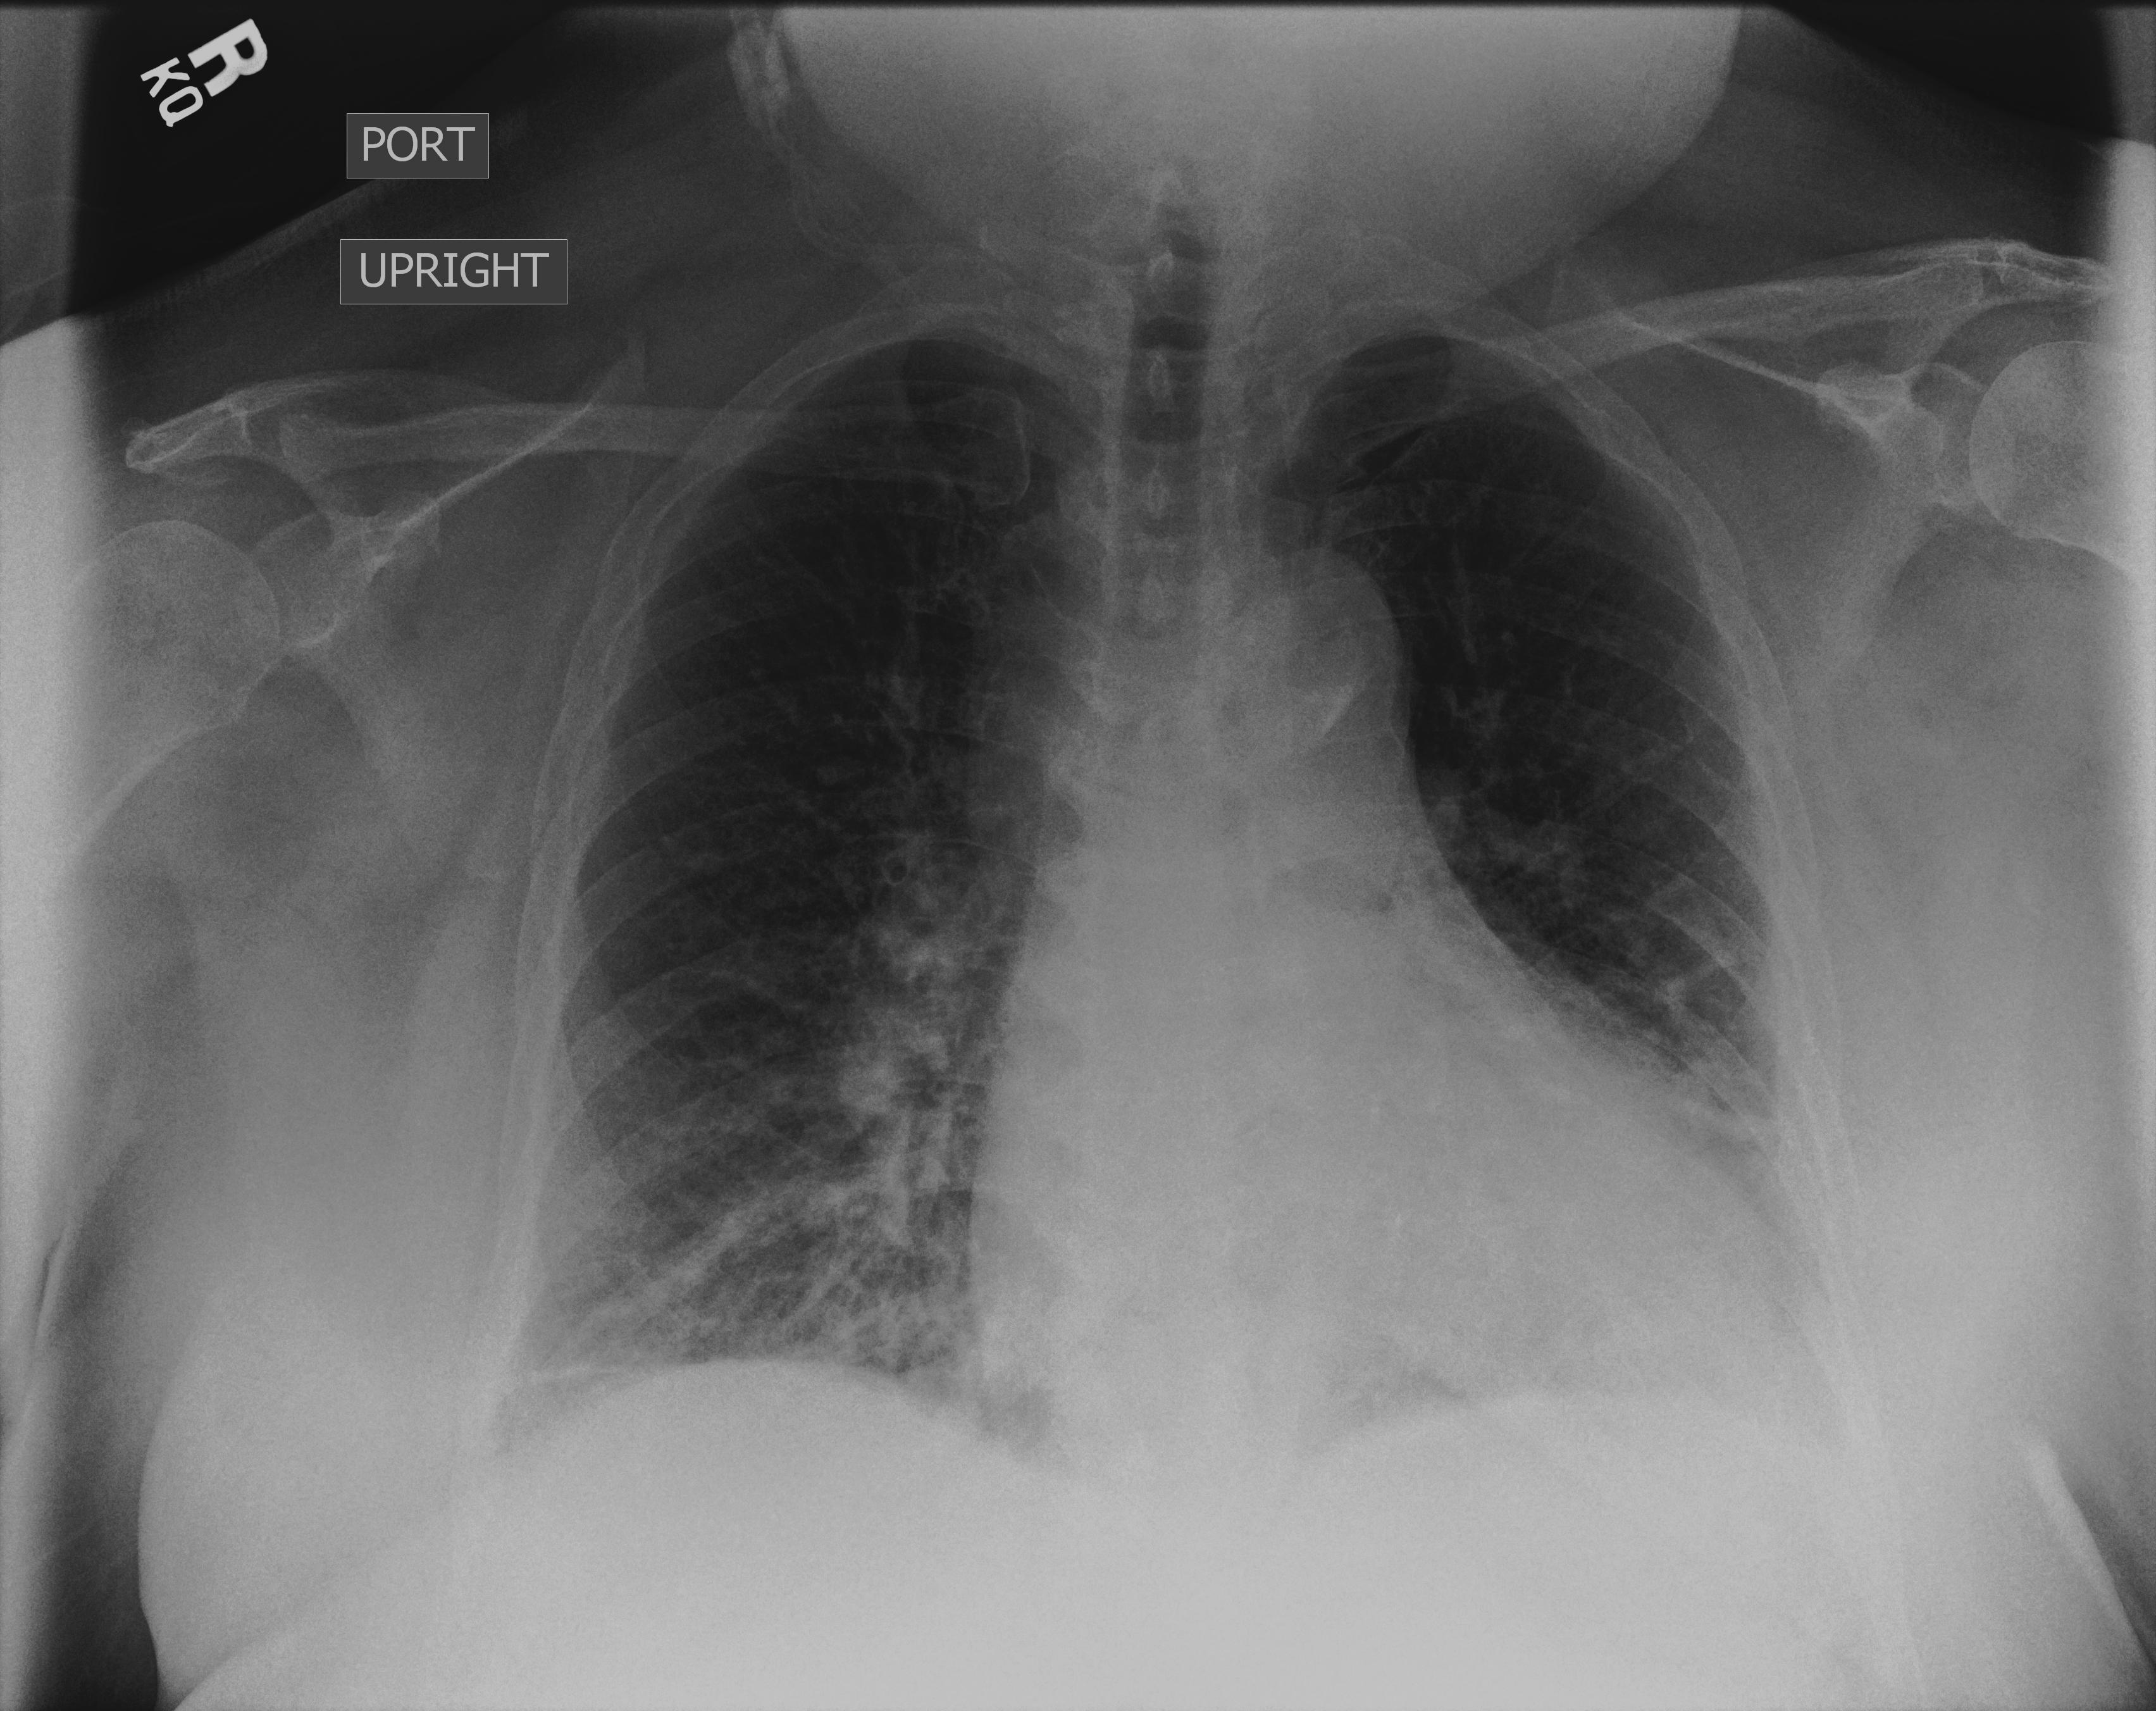Pleural Effusion: (1666, 1092, 1921, 1594)
